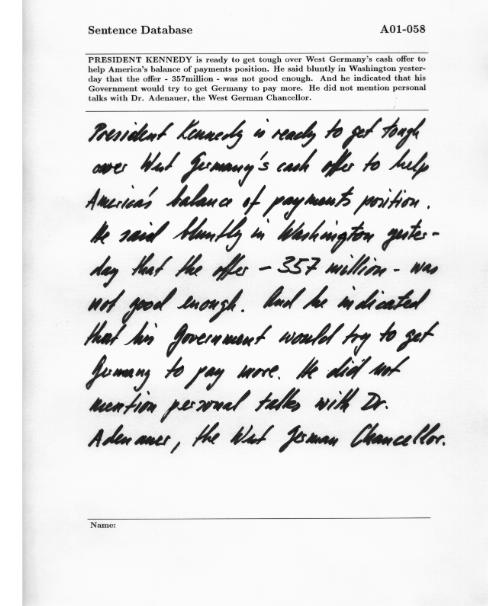text: (85, 282, 434, 326), (87, 250, 442, 291), (82, 319, 442, 359), (81, 181, 423, 223), (83, 419, 449, 458), (91, 147, 432, 188), (86, 214, 443, 253), (82, 354, 413, 395), (85, 115, 428, 152), (85, 386, 391, 426), (86, 63, 427, 76), (86, 53, 428, 65), (86, 82, 427, 94), (88, 72, 428, 84), (86, 92, 311, 104), (85, 23, 194, 37), (378, 22, 427, 36), (88, 519, 118, 532)
